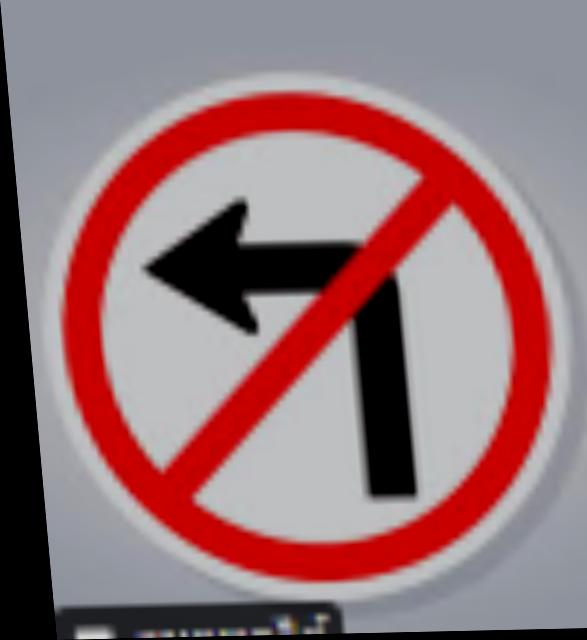not_turn_left: (31, 69, 587, 595)
